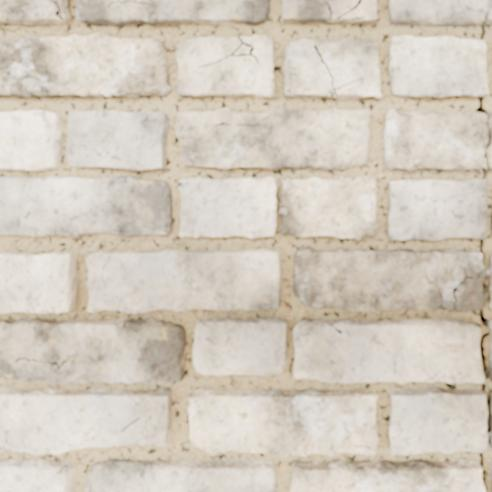brick: (188, 389, 377, 456), (293, 248, 491, 311), (0, 318, 185, 385), (293, 318, 483, 383), (87, 249, 280, 312), (175, 108, 370, 169), (0, 388, 171, 454), (0, 34, 170, 97), (0, 176, 171, 235), (389, 386, 491, 454), (291, 458, 483, 491), (86, 458, 275, 491), (66, 110, 168, 169), (280, 177, 377, 239), (177, 35, 274, 97), (387, 179, 486, 239), (389, 36, 487, 96), (179, 177, 277, 237), (284, 38, 381, 98), (193, 317, 287, 374), (76, 0, 269, 25), (0, 252, 76, 312), (0, 111, 62, 169), (0, 459, 74, 491), (282, 0, 376, 23), (0, 0, 70, 24), (328, 0, 356, 17), (488, 341, 491, 380), (490, 464, 491, 481)
broken_brick: (382, 108, 487, 170), (388, 0, 491, 27), (485, 8, 491, 25), (489, 149, 491, 164)
crack: (313, 44, 364, 97), (196, 36, 259, 69), (475, 95, 491, 180), (452, 266, 473, 311), (478, 303, 491, 375), (423, 269, 446, 309), (321, 0, 362, 20), (477, 451, 489, 491), (479, 2, 491, 41), (100, 252, 112, 280), (479, 238, 485, 266), (354, 444, 377, 451), (481, 281, 487, 294), (480, 380, 486, 392), (178, 178, 183, 188), (85, 250, 92, 257), (426, 166, 438, 168)
